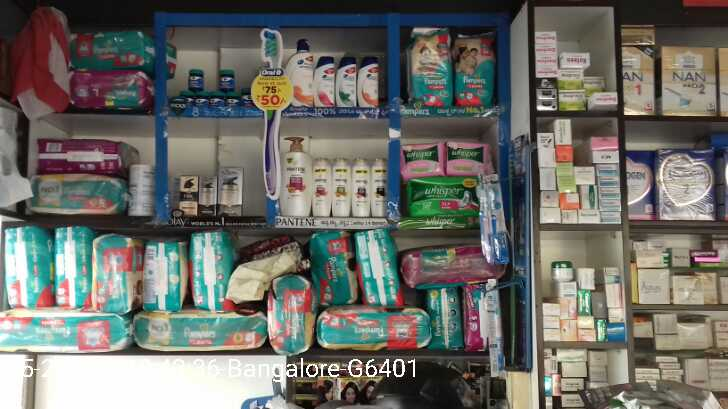beauty: (278, 137, 310, 219), (212, 165, 248, 217), (328, 159, 354, 216), (356, 55, 381, 109), (309, 156, 330, 220), (354, 156, 375, 217), (173, 169, 199, 212), (334, 61, 356, 109), (311, 53, 332, 102)
pharmacy: (318, 304, 431, 355), (130, 315, 271, 352), (3, 224, 53, 310), (403, 29, 454, 111), (87, 231, 138, 313), (64, 31, 149, 70), (53, 226, 91, 310), (452, 34, 496, 105), (189, 234, 228, 313), (407, 176, 475, 218), (144, 239, 181, 306), (445, 138, 487, 179), (394, 141, 442, 176), (213, 68, 239, 91), (189, 67, 204, 92)
